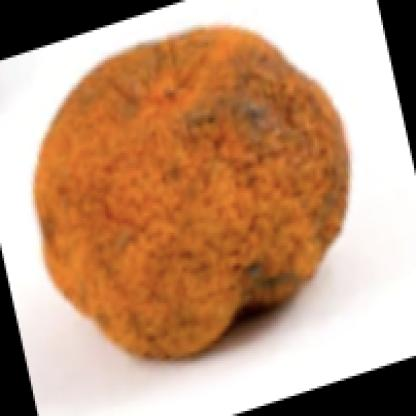rotten: (36, 24, 351, 362)
